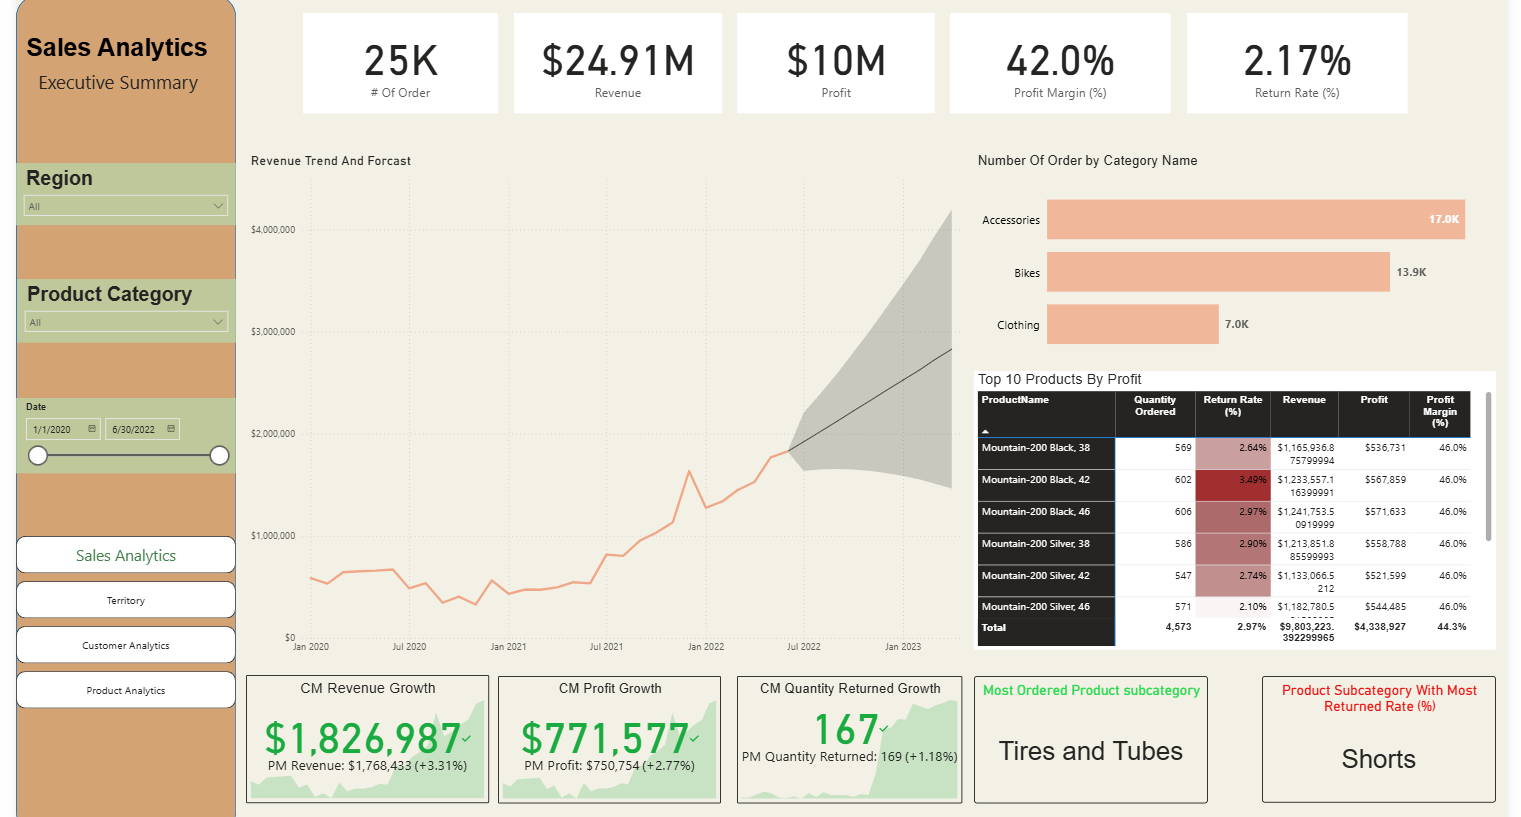

The dashboard page shown, as its layout file describes it:
{"tool":"powerbi","page":{"name":"Sales Analytics","canvas":[1920,1080],"ordinal":0},"visuals":[{"type":"card","fields":{"Values":["_Measure.Revenue"]},"box":[640.5,22.7,267.6,128.5],"z":0},{"type":"card","fields":{"Values":["_Measure.Profit"]},"box":[927.8,22.7,255.5,128.5],"z":1000},{"type":"card","fields":{"Values":["_Measure.Profit Margin (%)"]},"box":[1202.9,22.7,284.2,128.5],"z":2000},{"type":"shape","box":[0,0,283.3,1080],"z":3000},{"type":"textbox","box":[0,45.4,260,59],"z":4000},{"type":"textbox","box":[1.5,90.7,260,59],"z":5000},{"type":"card","fields":{"Values":["_Measure.# Of Order"]},"box":[369.9,22.7,251,128.5],"z":6000},{"type":"card","fields":{"Values":["_Measure.Return Rate (%)"]},"box":[1506.8,22.7,284.2,128.5],"z":7000},{"type":"lineChart","title":"Revenue Trend And Forcast","fields":{"Category":["DimDate.Start of the Month"],"Y":["_Measure.Revenue"]},"box":[296.9,202.8,936.3,654.2],"z":8000},{"type":"clusteredBarChart","title":"Number Of Order by Category Name","fields":{"Category":["DimCategory.CategoryName","DimSubcategory.SubcategoryName"],"Y":["_Measure.# Of Order"]},"box":[1233.1,202.8,671.6,280.7],"z":9000},{"type":"kpi","title":"CM Revenue Growth","fields":{"Indicator":["_Measure.Revenue"],"TrendLine":["DimDate.Start of the Month"],"Goal":["_Measure.PM Revenue"]},"box":[296.3,875.4,312.8,164.6],"z":10000},{"type":"kpi","title":"CM Profit Growth","fields":{"TrendLine":["DimDate.Start of the Month"],"Indicator":["_Measure.Profit"],"Goal":["_Measure.PM Profit"]},"box":[620.6,877.2,287.5,163.9],"z":11000},{"type":"kpi","title":"CM Quantity Returned Growth","fields":{"TrendLine":["DimDate.Start of the Month"],"Goal":["_Measure.PM Quantity Return"],"Indicator":["_Measure.Quantity Return"]},"box":[928.2,877.2,290.1,163.9],"z":12000},{"type":"slicer","fields":{"Values":["DimTerritory.Region"]},"box":[0,216.7,283.3,80],"z":13000},{"type":"pivotTable","title":"Top 10 Products By Profit","fields":{"Rows":["DimProduct.ProductName"],"Values":["_Measure.Quantity Ordered","_Measure.Return Rate (%)","_Measure.Revenue","_Measure.Profit","_Measure.Profit Margin (%)"]},"box":[1233.1,483.6,671.6,358.7],"z":14000},{"type":"card","title":"Most Ordered Product subcategory","fields":{"Values":["Min(DimSubcategory.SubcategoryName)"]},"box":[1233.1,877.2,300.9,163.9],"z":15000},{"type":"card","title":"Product Subcategory With Most Returned Rate (%)","fields":{"Values":["Min(DimSubcategory.SubcategoryName)"]},"box":[1604.2,876.9,300.8,163.1],"z":16000},{"type":"slicer","fields":{"Values":["DimCategory.CategoryName"]},"box":[1.7,365,281.7,81.7],"z":17000},{"type":"slicer","fields":{"Values":["DimDate.Date"]},"box":[0,518.3,283.3,96.7],"z":18000},{"type":"pageNavigator","box":[0,696.7,283.3,223.3],"z":19000}]}

Visuals, with their boxes on the page's 1920x1080 design canvas (x1, y1, x2, y2). These are canvas units, not pixel positions in the 1521x817 screenshot, which may show the page scaled, cropped or inside an application window:
card - _Measure.Revenue: l=640, t=23, r=908, b=151
card - _Measure.Profit: l=928, t=23, r=1183, b=151
card - _Measure.Profit Margin (%): l=1203, t=23, r=1487, b=151
shape: l=0, t=0, r=283, b=1080
textbox: l=0, t=45, r=260, b=104
textbox: l=2, t=91, r=262, b=150
card - _Measure.# Of Order: l=370, t=23, r=621, b=151
card - _Measure.Return Rate (%): l=1507, t=23, r=1791, b=151
"Revenue Trend And Forcast" lineChart: l=297, t=203, r=1233, b=857
"Number Of Order by Category Name" clusteredBarChart: l=1233, t=203, r=1905, b=484
"CM Revenue Growth" kpi: l=296, t=875, r=609, b=1040
"CM Profit Growth" kpi: l=621, t=877, r=908, b=1041
"CM Quantity Returned Growth" kpi: l=928, t=877, r=1218, b=1041
slicer - DimTerritory.Region: l=0, t=217, r=283, b=297
"Top 10 Products By Profit" pivotTable: l=1233, t=484, r=1905, b=842
"Most Ordered Product subcategory" card: l=1233, t=877, r=1534, b=1041
"Product Subcategory With Most Returned Rate (%)" card: l=1604, t=877, r=1905, b=1040
slicer - DimCategory.CategoryName: l=2, t=365, r=283, b=447
slicer - DimDate.Date: l=0, t=518, r=283, b=615
pageNavigator: l=0, t=697, r=283, b=920
